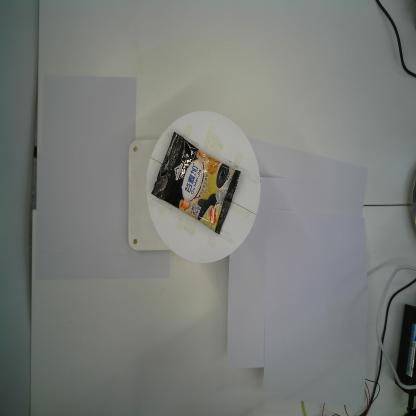Instant Drink: (150, 131, 241, 234)
